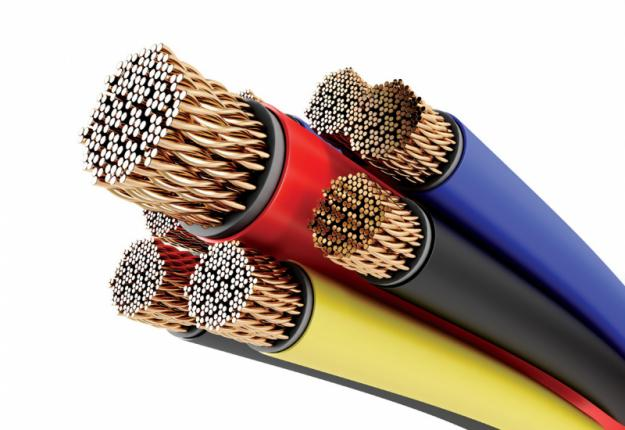Nonrec_Tangler: (68, 37, 616, 425)
